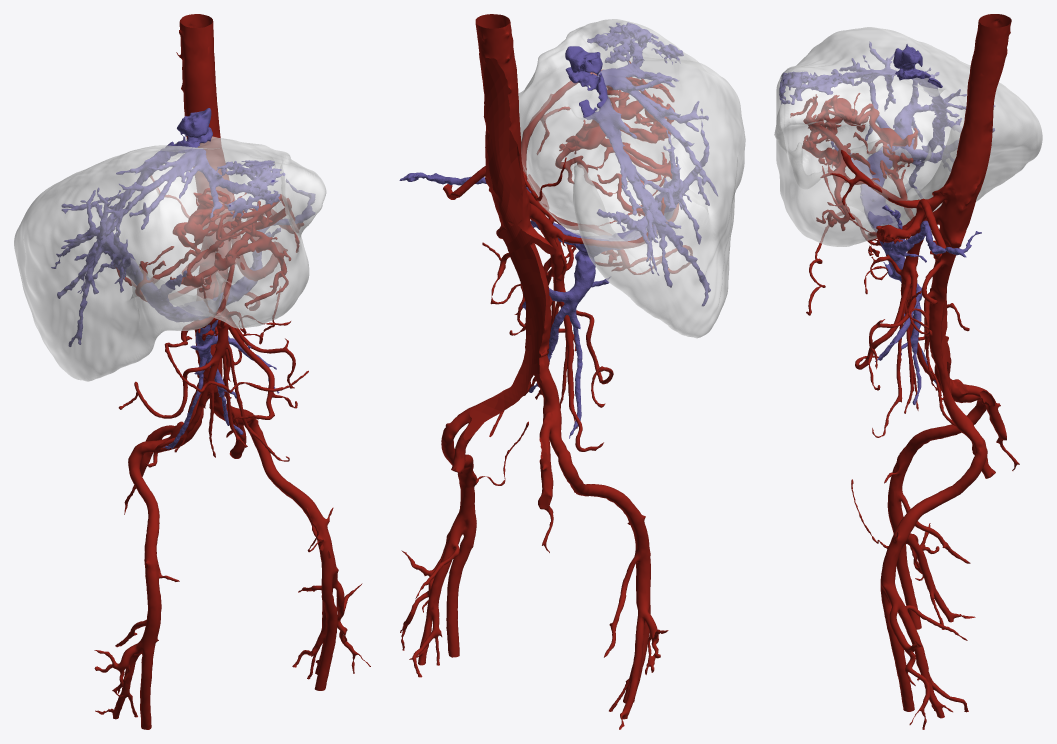
3 views of the same model, side by side, from view 1: azimuth 30°, elevation 25°; view 2: azimuth 150°, elevation 25°; view 3: azimuth 270°, elevation 25° (orthographic). The views are drawn at different scales.
Visible parts, largest first — view 1: liver_venous.001, 3d_Arterial_thin.002, 3d_Venus.001; view 2: liver_venous.001, 3d_Arterial_thin.002, 3d_Venus.001; view 3: 3d_Arterial_thin.002, liver_venous.001, 3d_Venus.001.
Boxes of the visible parts, box(x1,y1,x2,y2) form: liver_venous.001: box(14, 136, 326, 381); 3d_Arterial_thin.002: box(94, 14, 370, 729); 3d_Venus.001: box(51, 108, 315, 449); liver_venous.001: box(518, 19, 745, 338); 3d_Arterial_thin.002: box(400, 14, 692, 729); 3d_Venus.001: box(399, 22, 717, 438); 3d_Arterial_thin.002: box(790, 14, 1019, 729); liver_venous.001: box(774, 27, 1042, 246); 3d_Venus.001: box(779, 41, 995, 404).
Size of the model in its own units: 2.15 by 4.25 by 1.59.
